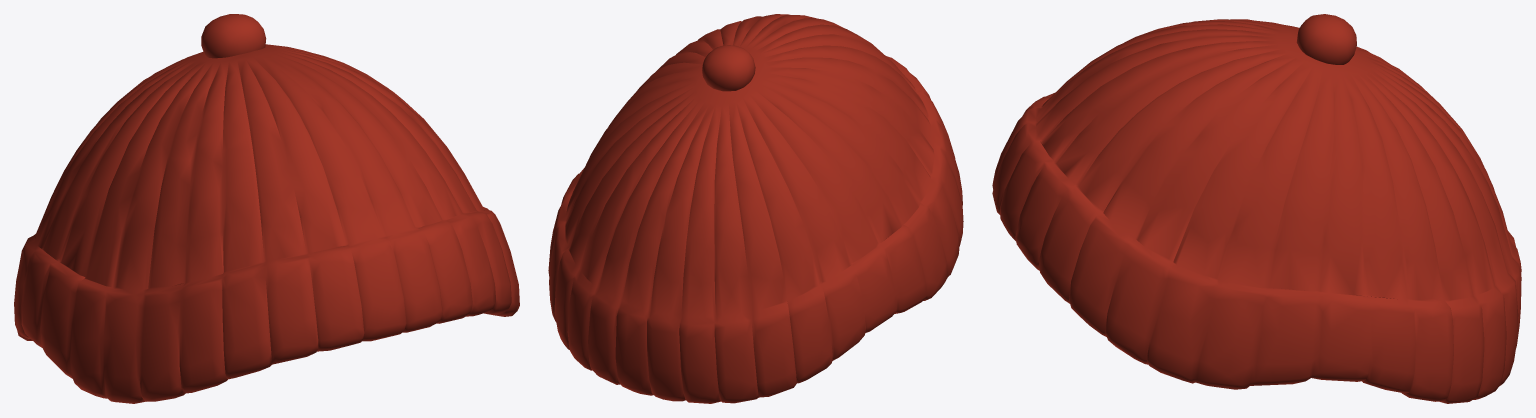
Rendered from headwear-beanie-red-45819bc9.glb.
3 views of the same model, side by side, from view 1: azimuth 30°, elevation 25°; view 2: azimuth 150°, elevation 25°; view 3: azimuth 270°, elevation 25° (orthographic). The views are drawn at different scales.
Visible parts, largest first — view 1: Geo_White_Old_Male_Beanie_Red.001; view 2: Geo_White_Old_Male_Beanie_Red.001; view 3: Geo_White_Old_Male_Beanie_Red.001.
Part boxes in pixels (left/top/right/bottom): Geo_White_Old_Male_Beanie_Red.001: left=14, top=14, right=519, bottom=403; Geo_White_Old_Male_Beanie_Red.001: left=548, top=14, right=963, bottom=403; Geo_White_Old_Male_Beanie_Red.001: left=992, top=14, right=1521, bottom=403.
Bounding box in the file's own units: 1.54 × 1.28 × 1.79.
